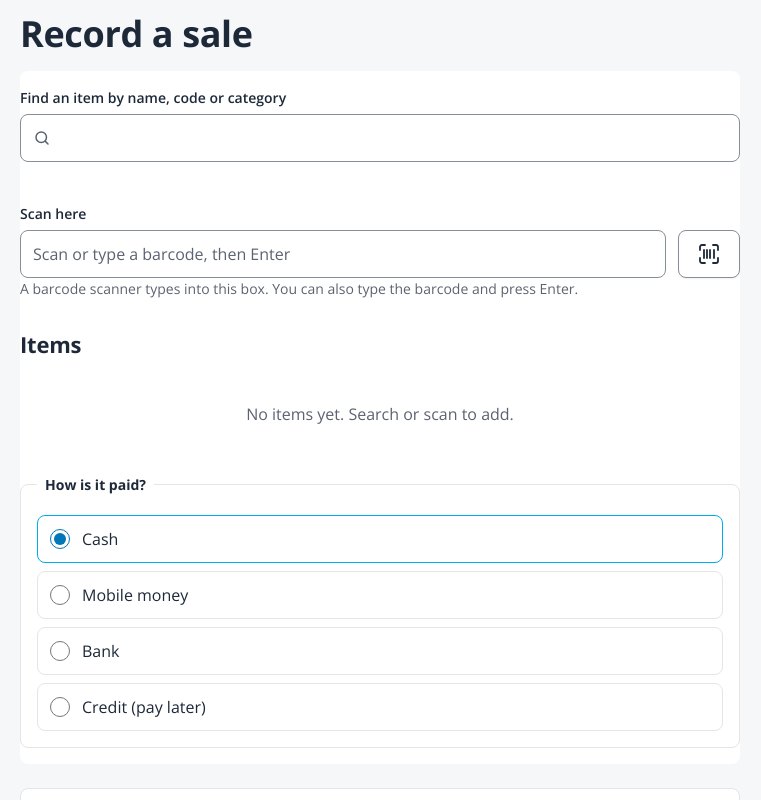
Test: adding an item › adds the item where the phone cannot vibrate
The width and height of the screenshot is (761, 800).
Type "Test Bulb 9W" into the dropdown labelled "Find an item by name, code or category" at (380, 138), box [20, 114, 740, 162]
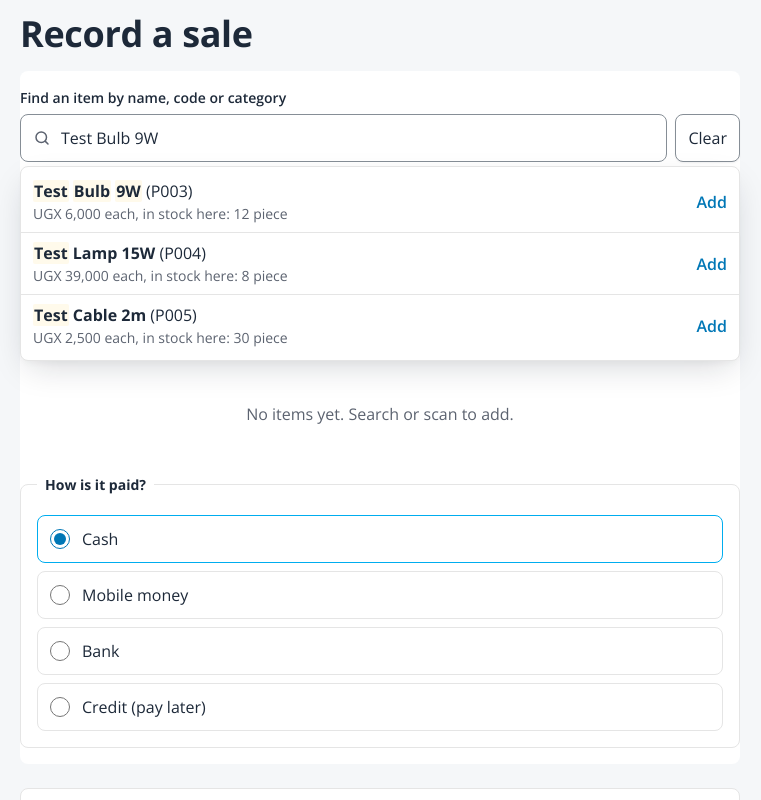
Click the 1st option at (51, 191), box [21, 171, 739, 232]
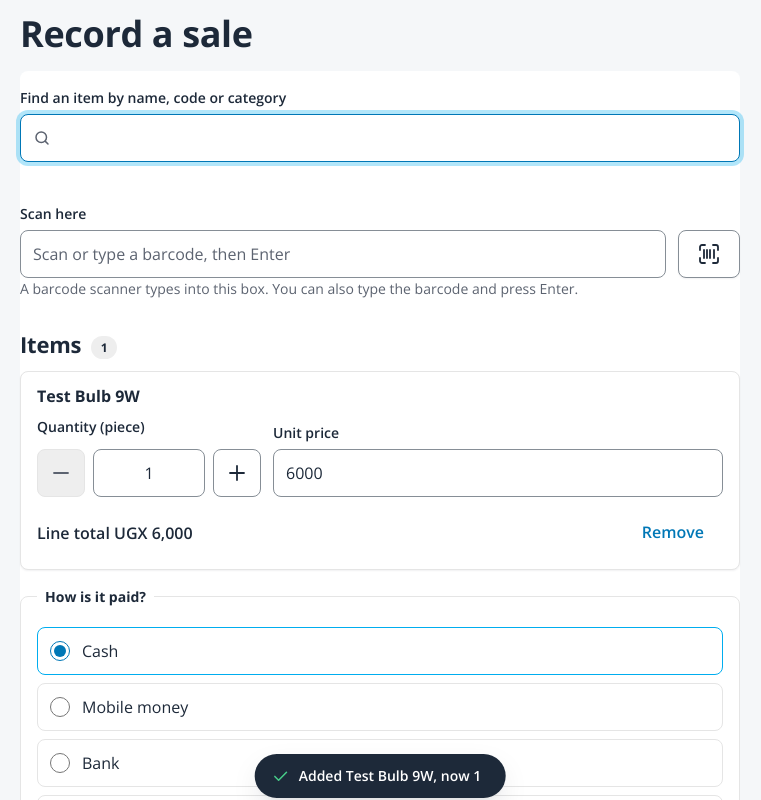
Check: the number of elements with class "line-card" is 1, box [20, 371, 740, 570]
